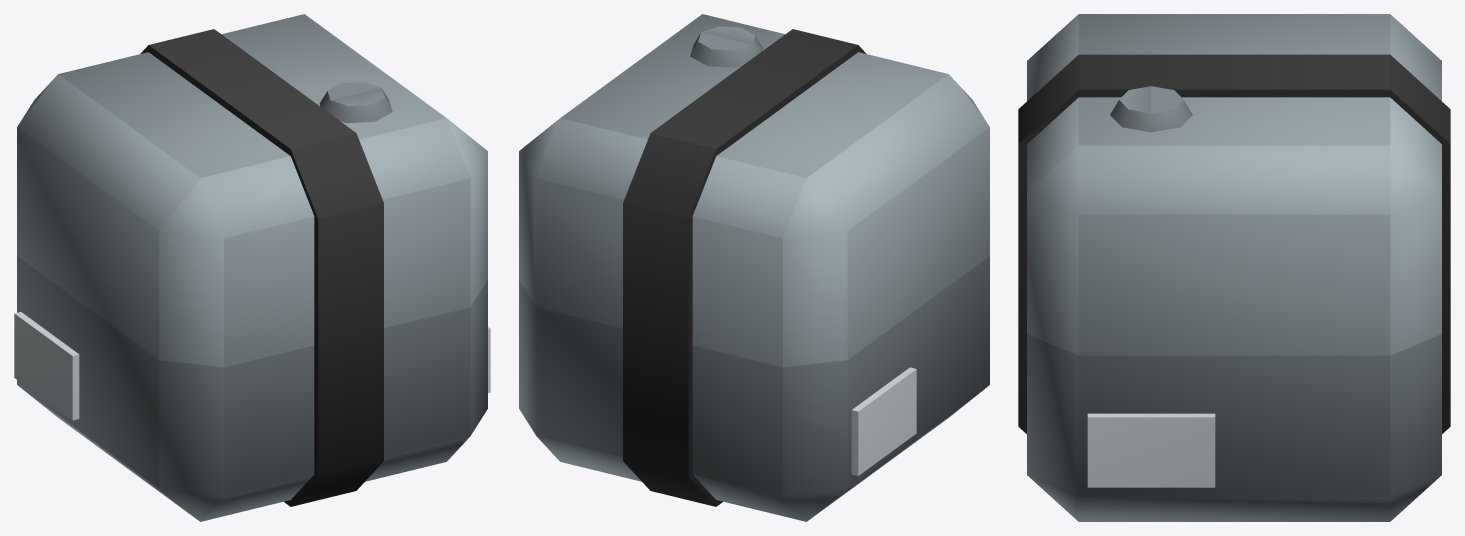
The model's file is cargo_B_packed.glb.
3 views of the same model, side by side, from view 1: azimuth 30°, elevation 25°; view 2: azimuth 150°, elevation 25°; view 3: azimuth 270°, elevation 25° (orthographic). The views are drawn at different scales.
Visible parts, largest first — view 1: cargo_B_packed; view 2: cargo_B_packed; view 3: cargo_B_packed.
Part boxes in pixels (<box>): cargo_B_packed: <box>14,14,490,521</box>; cargo_B_packed: <box>519,14,989,521</box>; cargo_B_packed: <box>1018,14,1450,521</box>.
Bounding box in the file's own units: 0.5205 × 0.5303 × 0.5205.
Materials: 1 (1 with a texture image).
